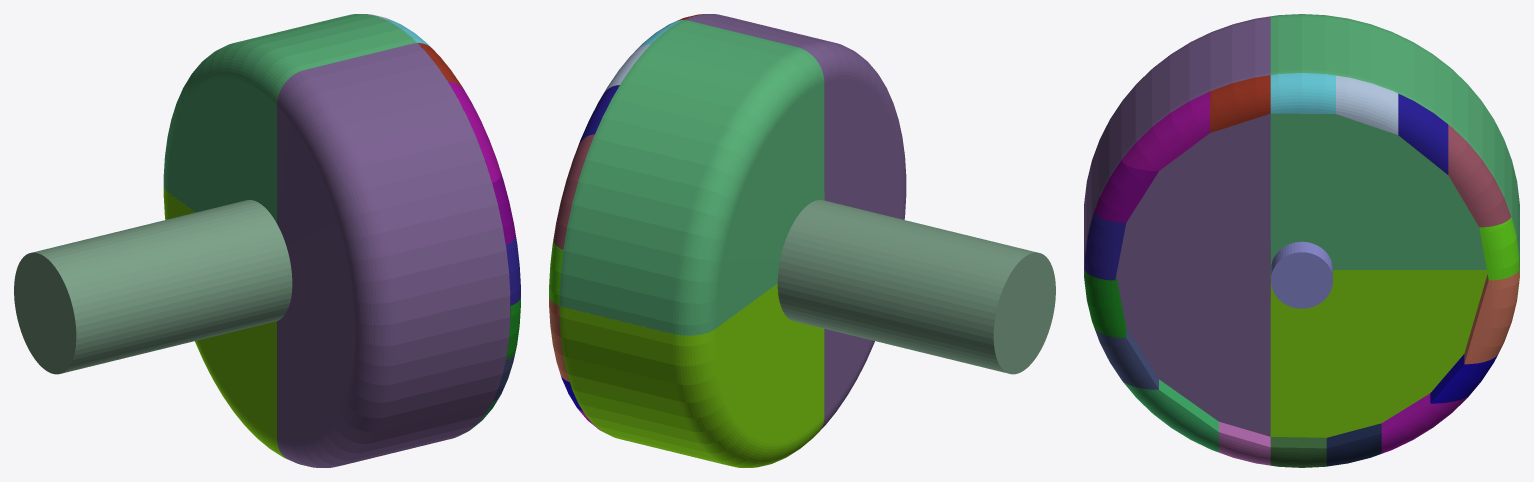
The model's file is 0_canonical.obj.
3 views of the same model, side by side, from view 1: azimuth 30°, elevation 25°; view 2: azimuth 150°, elevation 25°; view 3: azimuth 270°, elevation 25° (orthographic).
Parts seen in each view (by area): view 1: geometry_1, geometry_0, geometry_3, geometry_4, geometry_14, geometry_11, geometry_18, geometry_8; view 2: geometry_3, geometry_0, geometry_4, geometry_1, geometry_13, geometry_9, geometry_17, geometry_20; view 3: geometry_1, geometry_3, geometry_4, geometry_14, geometry_12, geometry_13, geometry_9, geometry_10, geometry_2, geometry_6, geometry_15, geometry_20 (+10 smaller).
Part boxes in pixels (x1,y1,x2,y2): geometry_1: (277,43,510,467); geometry_0: (14,200,292,374); geometry_3: (163,14,416,222); geometry_4: (163,187,287,459); geometry_14: (448,81,500,182); geometry_11: (492,173,515,244); geometry_18: (506,235,520,305); geometry_8: (506,297,520,359); geometry_3: (559,20,824,335); geometry_0: (777,200,1055,374); geometry_4: (559,284,824,467); geometry_1: (684,14,906,431); geometry_13: (553,134,594,249); geometry_9: (549,297,569,381); geometry_17: (549,241,563,305); geometry_20: (578,85,619,146); geometry_1: (1084,16,1270,436); geometry_3: (1270,14,1519,269); geometry_4: (1270,268,1519,437); geometry_14: (1121,91,1209,170); geometry_12: (1271,241,1332,308); geometry_13: (1448,124,1511,227); geometry_9: (1464,270,1519,364); geometry_10: (1122,379,1218,452); geometry_2: (1270,73,1335,113); geometry_6: (1336,75,1398,134); geometry_15: (1210,75,1270,132); geometry_20: (1398,93,1448,174).
Size of the model in its own units: 0.035 by 0.035 by 0.0349.
